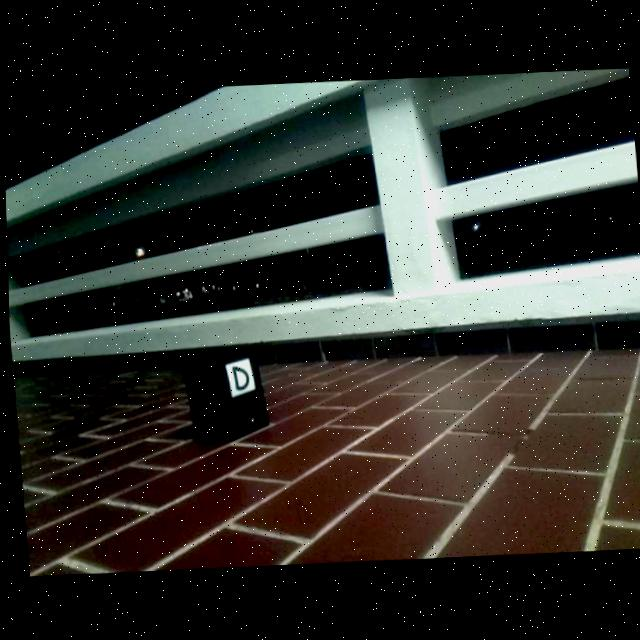D: (228, 363, 248, 391)
